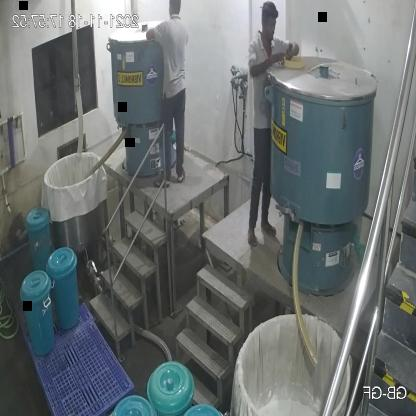no_shoes: (260, 218, 278, 240), (245, 228, 258, 248), (176, 168, 188, 184)
